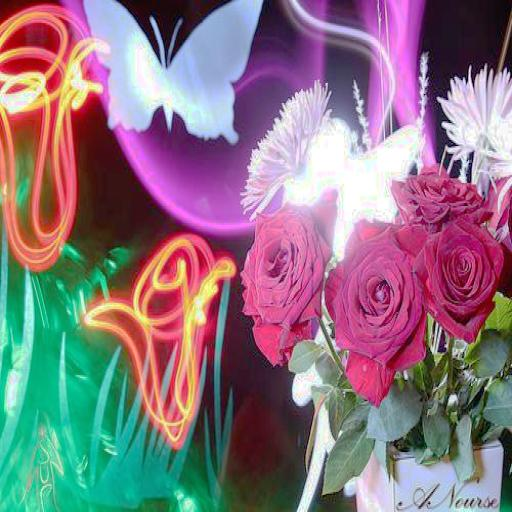rose: (324, 220, 425, 397), (240, 203, 324, 361), (417, 220, 503, 338), (391, 164, 492, 228)
